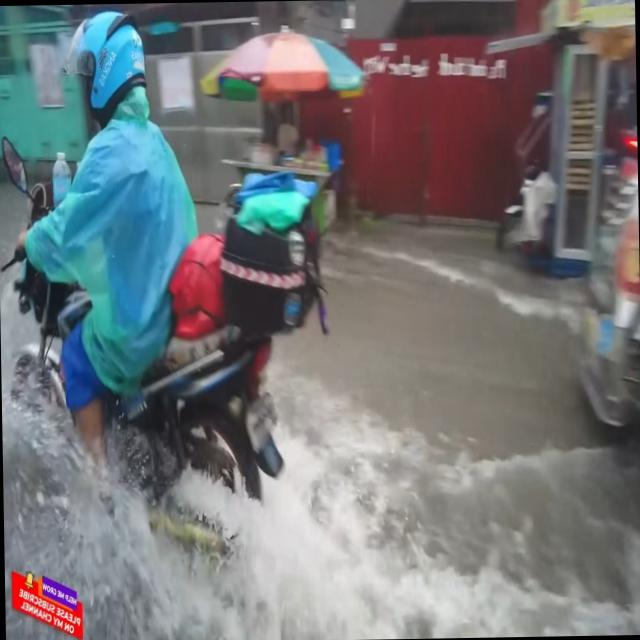half: (59, 3, 154, 129)
